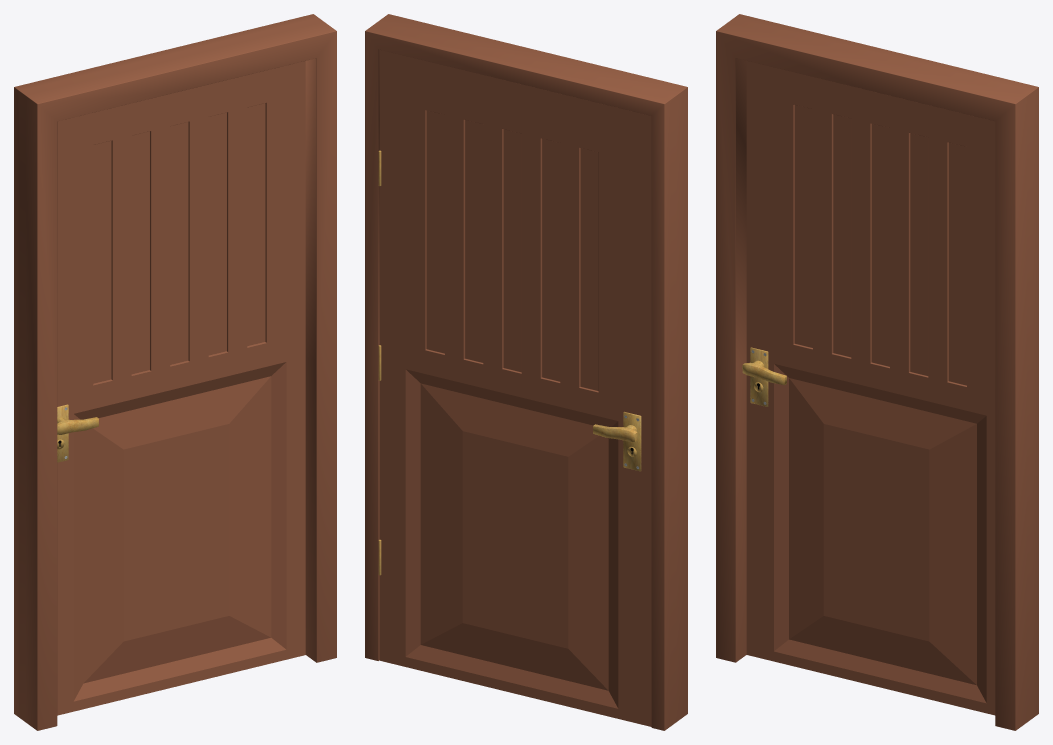
Rendered from pintu 1.fbx.
The picture shows the model from 3 angles, left to right: view 1: azimuth 30°, elevation 25°; view 2: azimuth 150°, elevation 25°; view 3: azimuth 330°, elevation 25°; orthographic projection.
Parts seen in each view (by area): view 1: kayu pintu, kerangka pintu, gagang pintu; view 2: kayu pintu, kerangka pintu, pengunci pintu, gagang pintu; view 3: kayu pintu, kerangka pintu, pengunci pintu, gagang pintu.
Part boxes in pixels (x1=…): kayu pintu: x1=57, y1=61, x2=305, y2=715; kerangka pintu: x1=14, y1=14, x2=336, y2=730; gagang pintu: x1=57, y1=417, x2=98, y2=434; kayu pintu: x1=379, y1=50, x2=651, y2=726; kerangka pintu: x1=365, y1=14, x2=687, y2=730; pengunci pintu: x1=623, y1=411, x2=641, y2=471; gagang pintu: x1=593, y1=424, x2=637, y2=442; kayu pintu: x1=746, y1=61, x2=995, y2=715; kerangka pintu: x1=716, y1=14, x2=1038, y2=730; pengunci pintu: x1=750, y1=347, x2=768, y2=406; gagang pintu: x1=742, y1=360, x2=786, y2=385.
Bounding box in the file's own units: 100 × 200 × 17.28.
4 materials, 2 textured.
